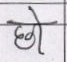e_matra: (28, 6, 43, 23)
